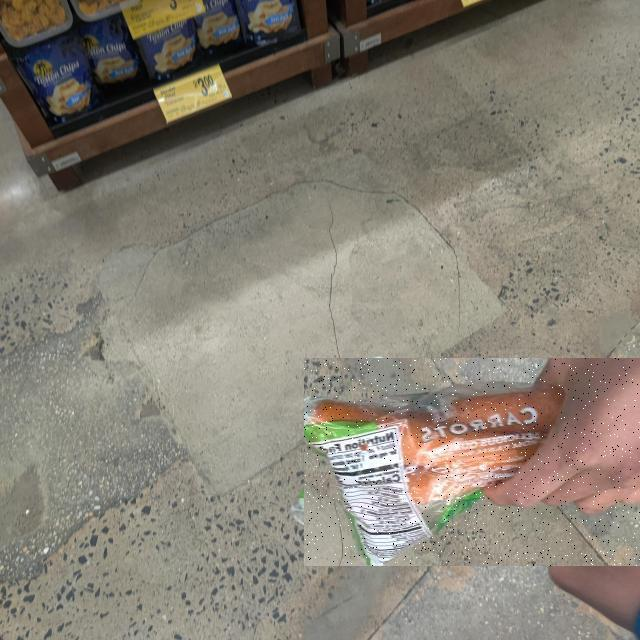Carrot: (304, 359, 640, 567)
